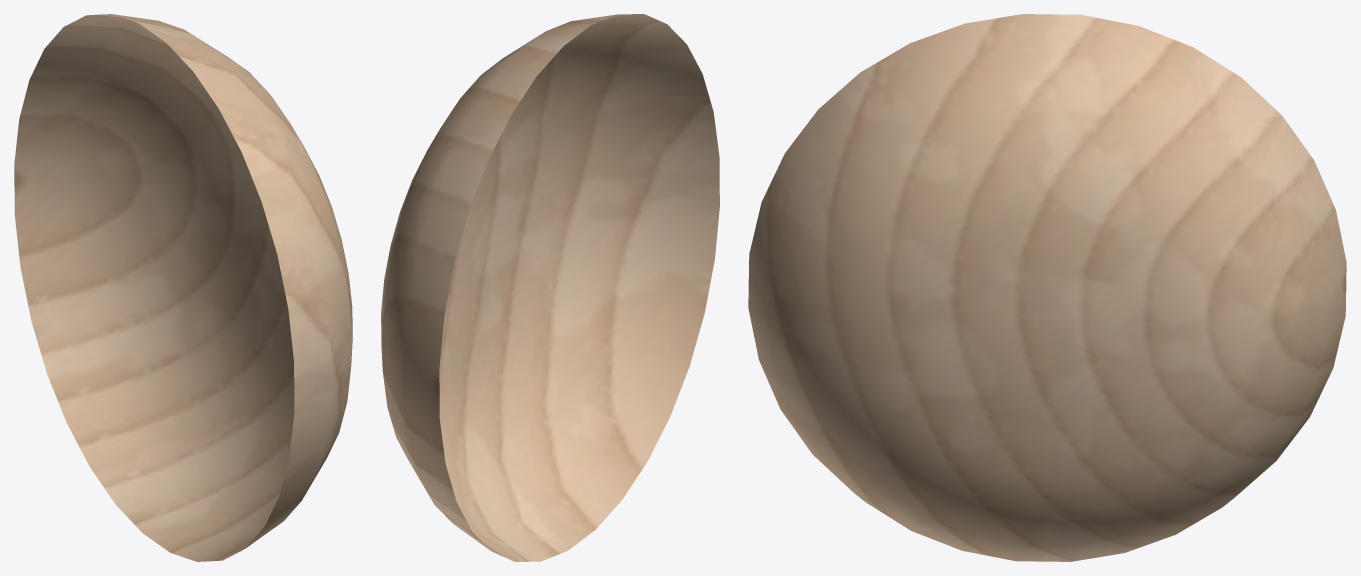
File: basketOB.glb
3 renders of one model, left to right at view 1: azimuth 30°, elevation 25°; view 2: azimuth 150°, elevation 25°; view 3: azimuth 270°, elevation 25°, orthographic. The views are drawn at different scales.
Visible parts, largest first — view 1: basketOB; view 2: basketOB; view 3: basketOB.
Boxes of the visible parts, bbox=[...] form: basketOB: bbox=[14, 14, 352, 561]; basketOB: bbox=[381, 14, 719, 561]; basketOB: bbox=[748, 14, 1346, 561].
Bounding box in the file's own units: 0.0167 × 0.0618 × 0.0618.
1 material, 1 textured.
